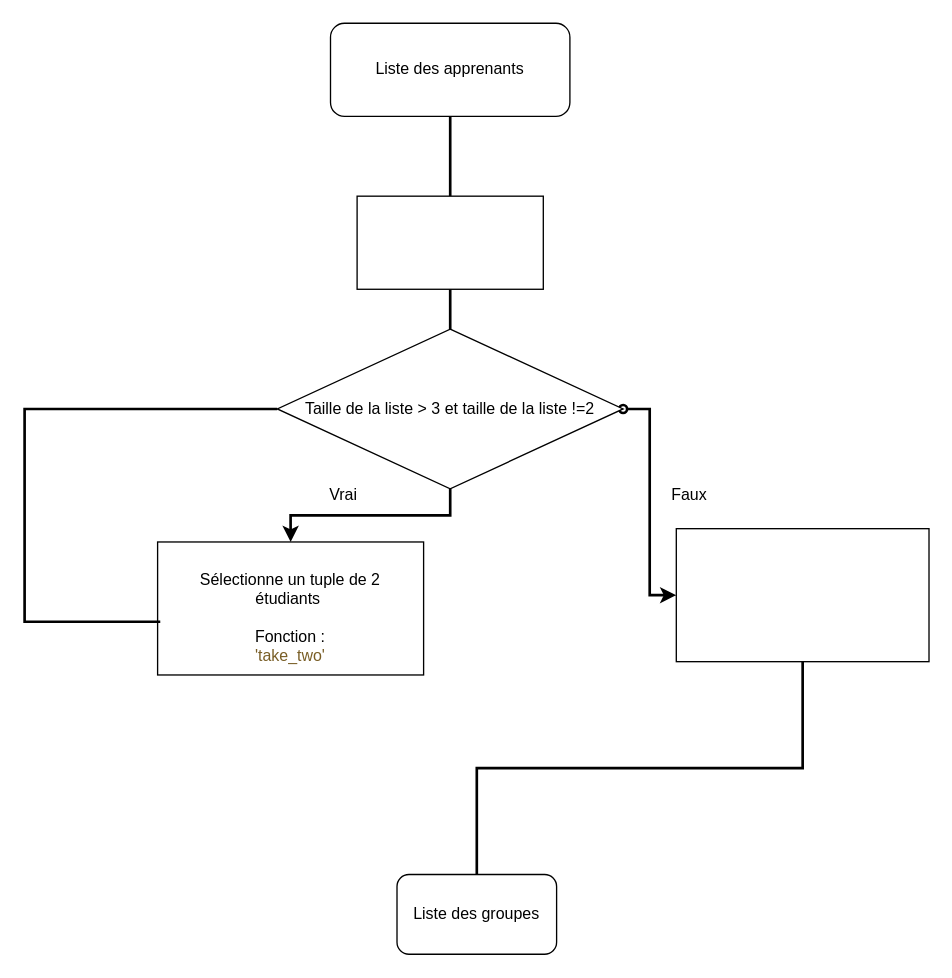
The diagram is 952 pixels wide and 978 high, and some of its shapes have lost their labels. Here are the shapes that lost their labels. From the top down, the centre of each, then its label:
At (449,242): "Tirage aléatoire Fonciton : ' liste_random'".
At (802,594): "Création d'un trinôme sous forme de tuples.".
